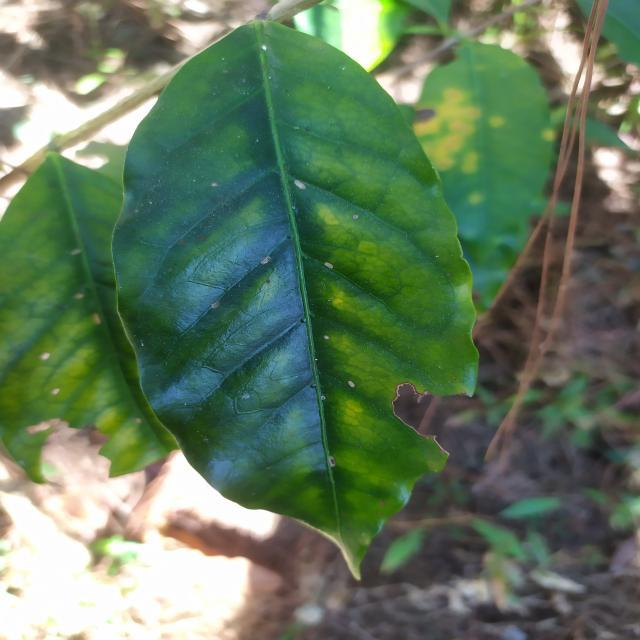leaves: (0, 0, 603, 588)
